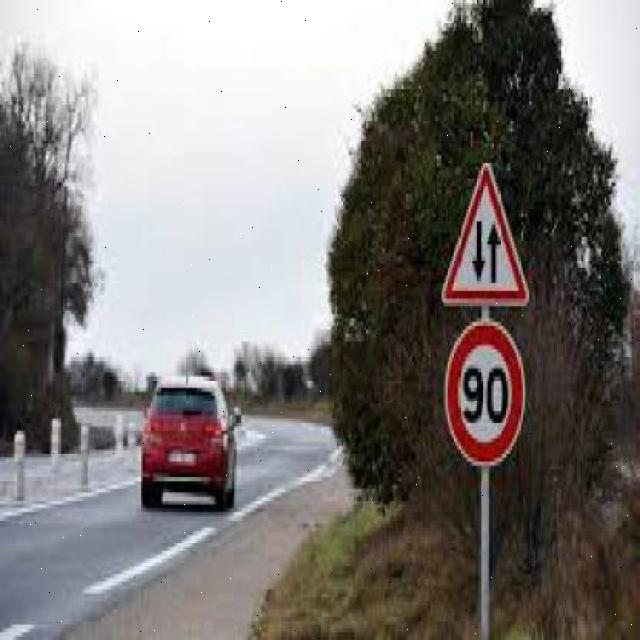speed limit 90: (444, 324, 529, 465)
